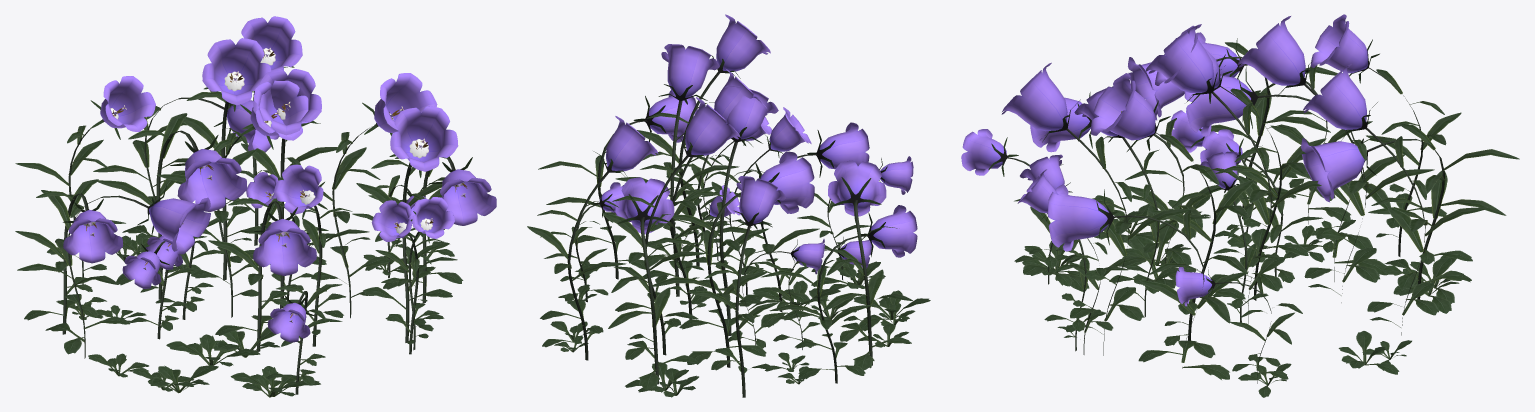
The model's file is EarleafBellflower.glb.
3 renders of one model, left to right at view 1: azimuth 30°, elevation 25°; view 2: azimuth 150°, elevation 25°; view 3: azimuth 270°, elevation 25°, orthographic. The views are drawn at different scales.
Visible parts, largest first — view 1: Earleaf Bellflower_02, Earleaf Bellflower_03, Earleaf Bellflower_01; view 2: Earleaf Bellflower_03, Earleaf Bellflower_02, Earleaf Bellflower_01; view 3: Earleaf Bellflower_03, Earleaf Bellflower_02, Earleaf Bellflower_01.
Boxes of the visible parts, x1,y1,x2,y2 form: Earleaf Bellflower_02: [15, 38, 496, 396]; Earleaf Bellflower_03: [15, 73, 454, 397]; Earleaf Bellflower_01: [61, 16, 457, 394]; Earleaf Bellflower_03: [540, 44, 930, 397]; Earleaf Bellflower_02: [538, 14, 917, 397]; Earleaf Bellflower_01: [527, 69, 915, 392]; Earleaf Bellflower_03: [1017, 14, 1519, 383]; Earleaf Bellflower_02: [1001, 16, 1456, 379]; Earleaf Bellflower_01: [961, 24, 1489, 397].
Bounding box in the file's own units: 0.1682 × 0.1004 × 0.1755.
Materials: 1 (1 with a texture image).
